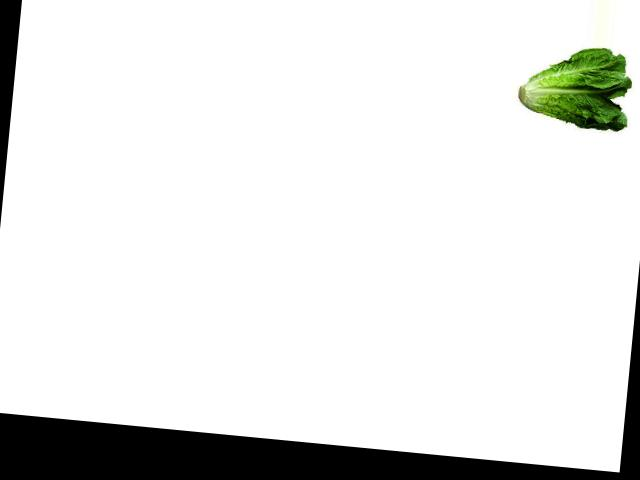lettuce: (512, 41, 634, 134)
